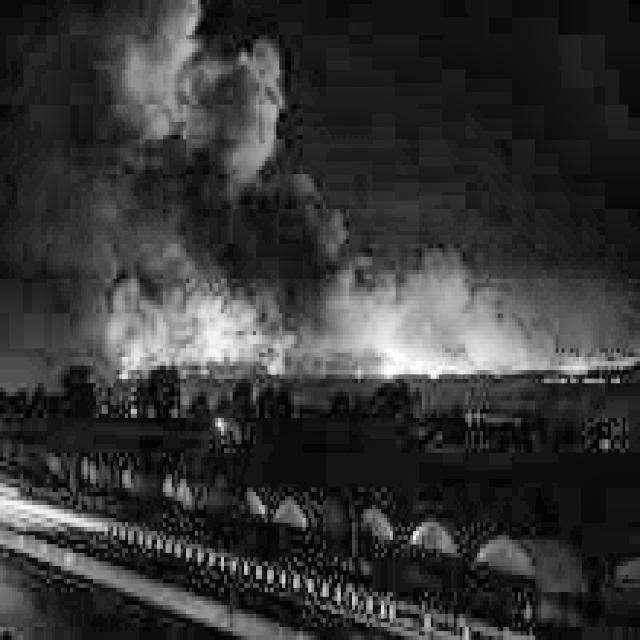fire: (78, 82, 598, 557)
